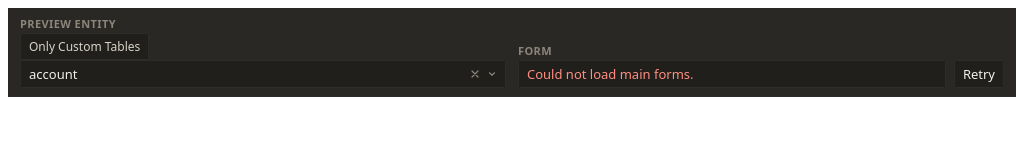
Test: FormSelector › shows load failure and retries to recovered form data
Click the button "Retry" at (979,74), box x1=954 y1=60 x2=1004 y2=88
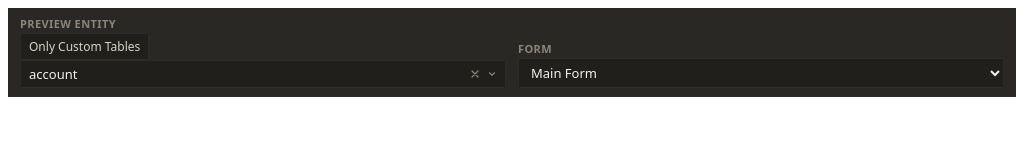
Result: the text "Could not load main forms" is gone
